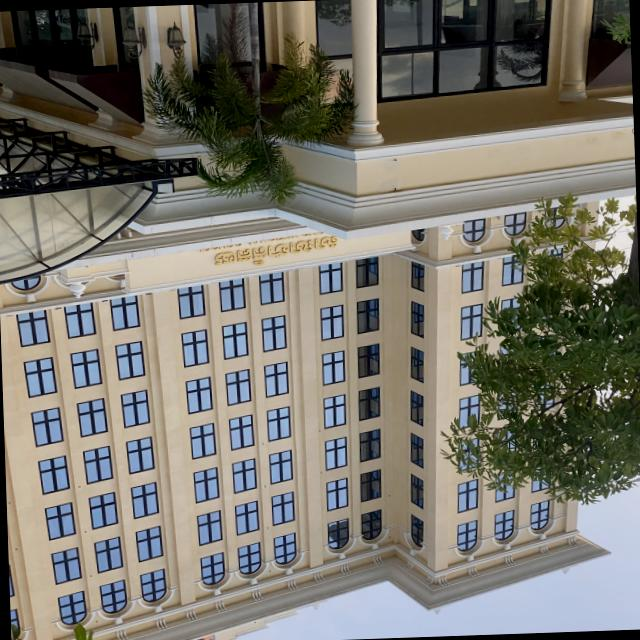Yolov11kh: (211, 233, 346, 275)
